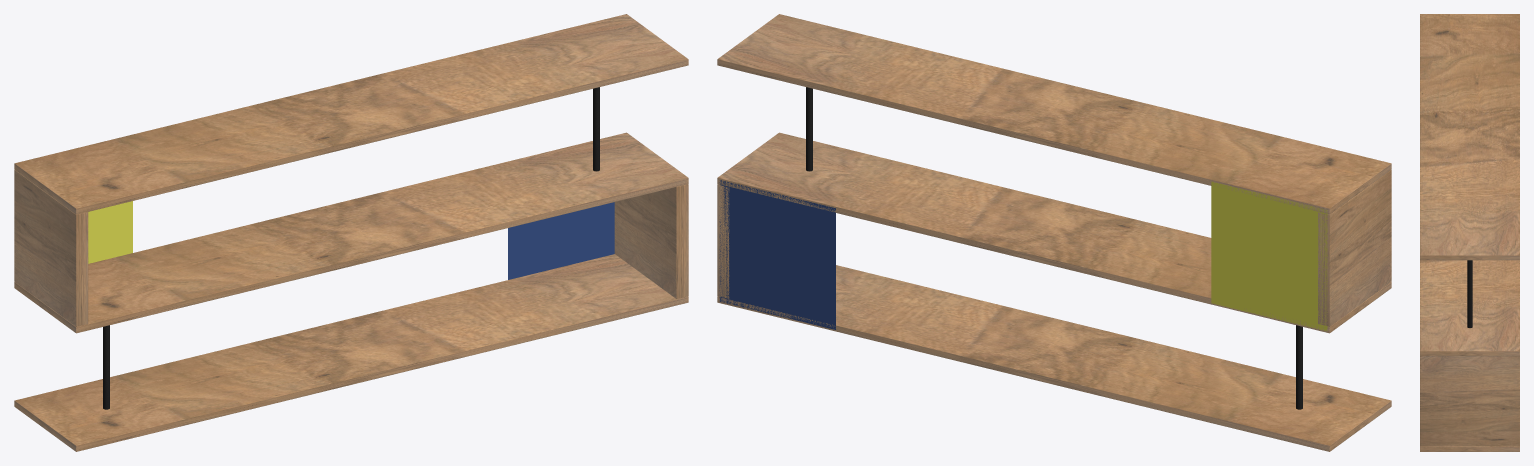
The model's file is shelf.glb.
3 views of the same model, side by side, from view 1: azimuth 30°, elevation 25°; view 2: azimuth 150°, elevation 25°; view 3: azimuth 270°, elevation 25° (orthographic). The views are drawn at different scales.
Visible parts, largest first — view 1: sideParts_2; view 2: sideParts_2; view 3: sideParts_2.
Boxes of the visible parts, bbox=[...] form: sideParts_2: bbox=[14, 14, 688, 451]; sideParts_2: bbox=[717, 14, 1391, 451]; sideParts_2: bbox=[1420, 14, 1519, 451].
Size of the model in its own units: 162 by 61.71 by 28.42.
Materials: 4 (3 with a texture image).
